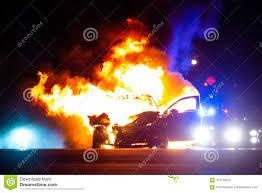fire: (35, 27, 200, 145)
